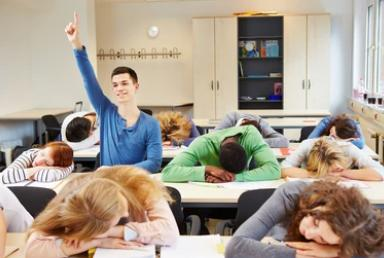sleep: (223, 173, 384, 258), (29, 169, 176, 257), (160, 124, 280, 185), (280, 135, 384, 185), (217, 110, 290, 149), (3, 144, 73, 181), (306, 113, 365, 148), (58, 110, 106, 147)
study: (65, 12, 162, 174)
